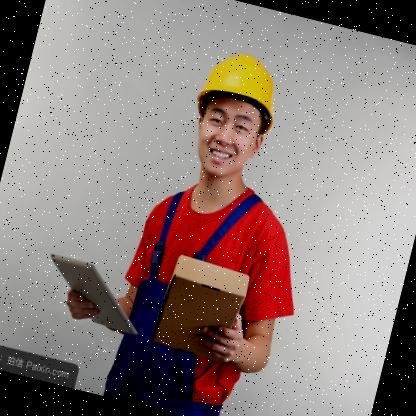capacete: (177, 39, 292, 192)
sem_colete_refletivo: (91, 162, 323, 415)
